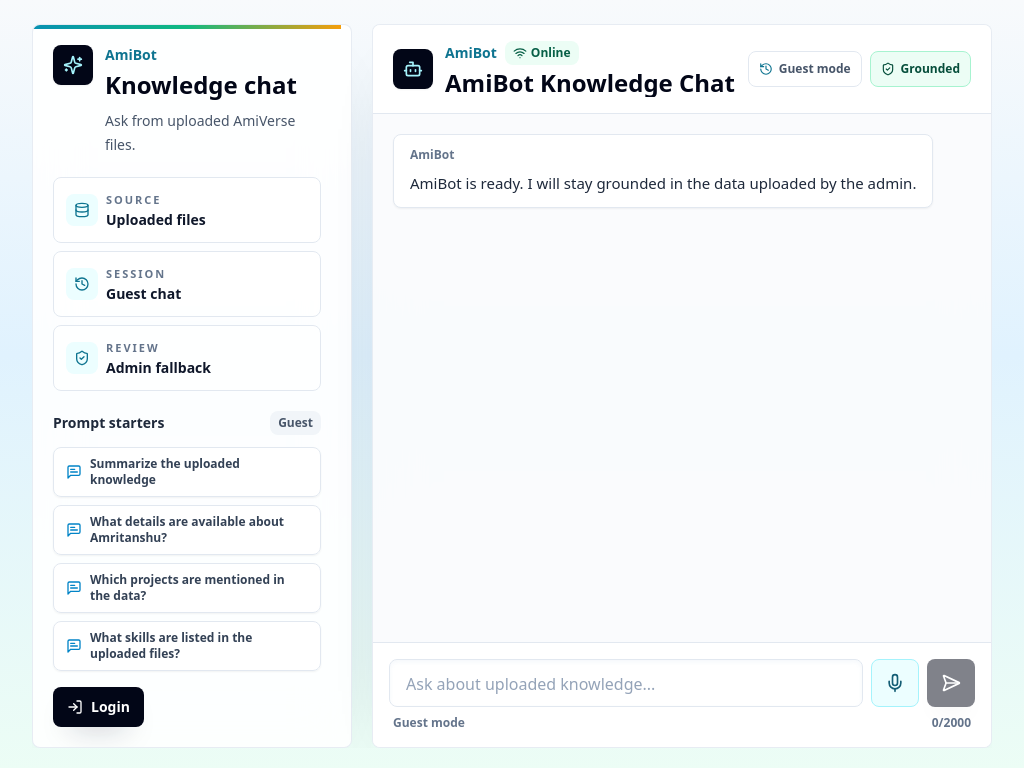
Test: lets the user stop a slow response
Step 1. Type "Tell me about the projects" into the text box named "type your message" → (626, 683), box top-left (389, 659), bottom-right (863, 707)
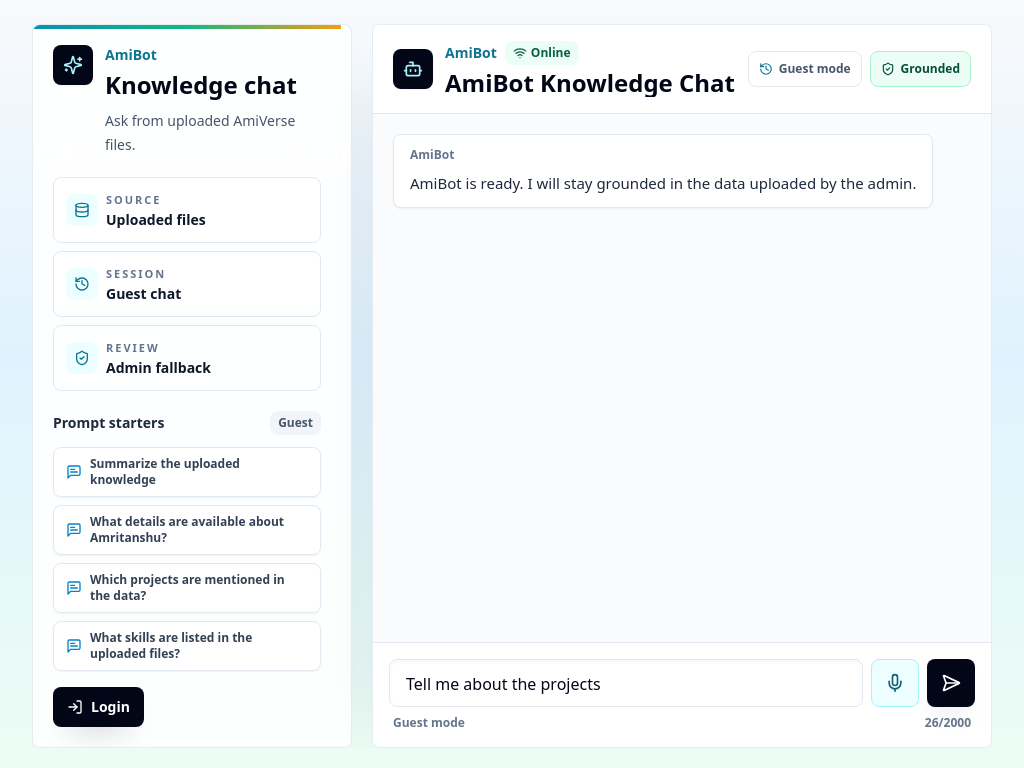
Step 2. Click the button named "send message" → click(951, 683), box top-left (927, 659), bottom-right (975, 707)
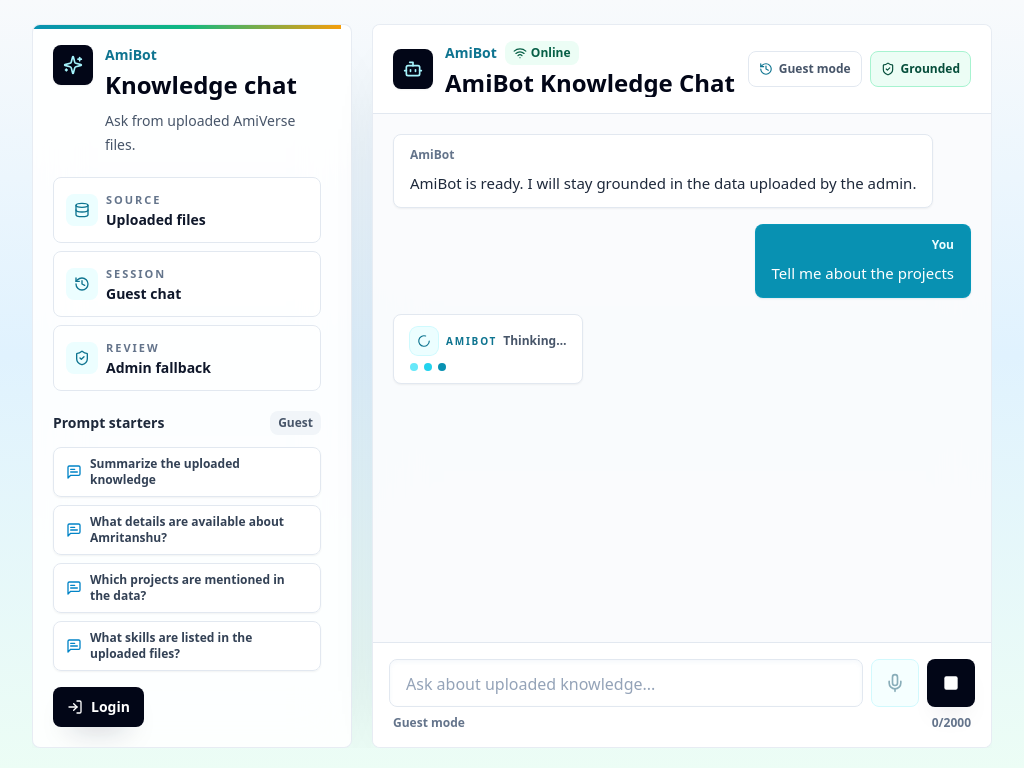
Step 3. Click the button named "stop response" → click(951, 683), box top-left (927, 659), bottom-right (975, 707)
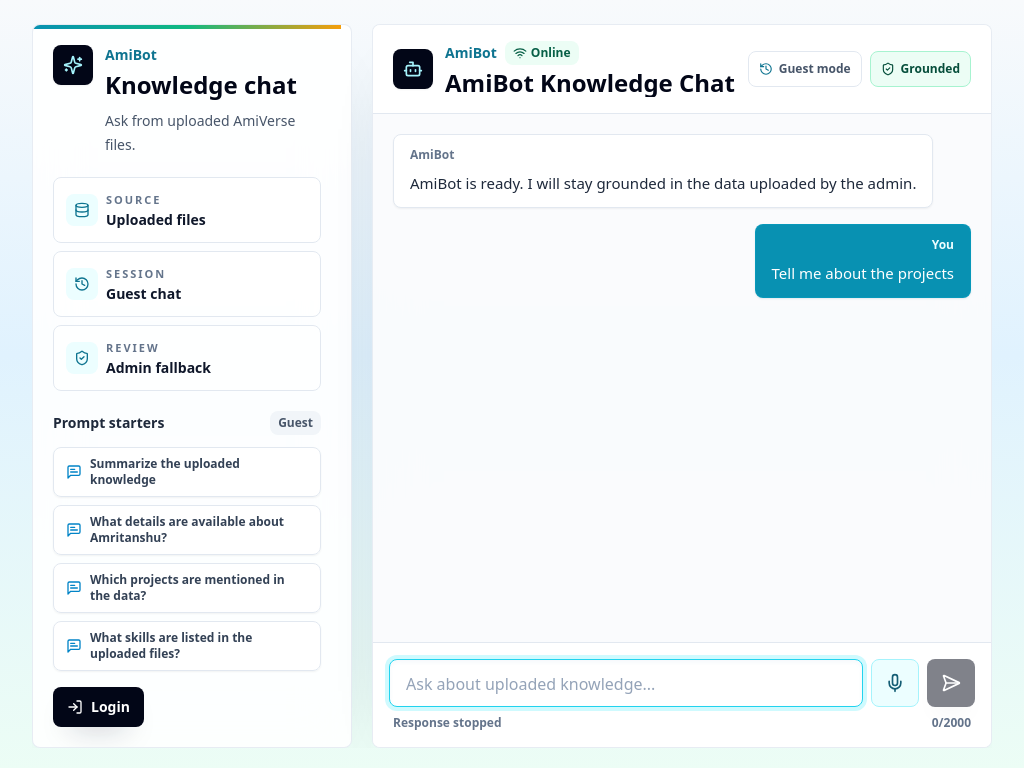
Now the text "Response stopped" is shown, box top-left (393, 715), bottom-right (502, 731)
Now the button named "send message" is disabled, box top-left (927, 659), bottom-right (975, 707)
